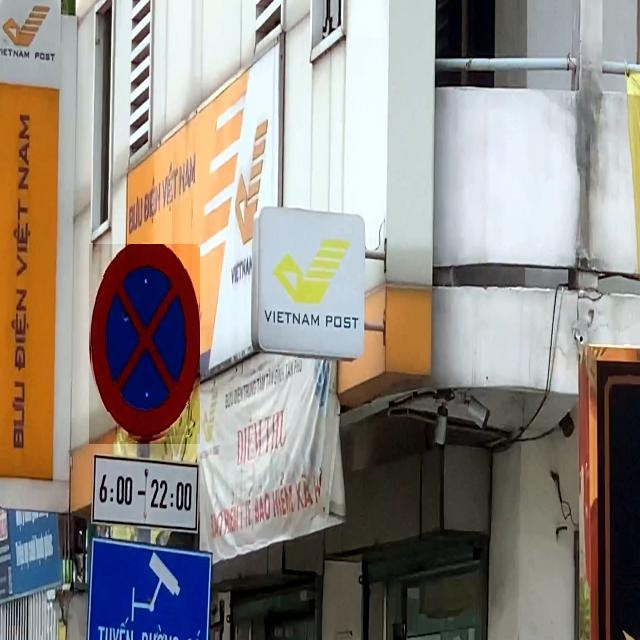bien_cam: (89, 244, 200, 444)
